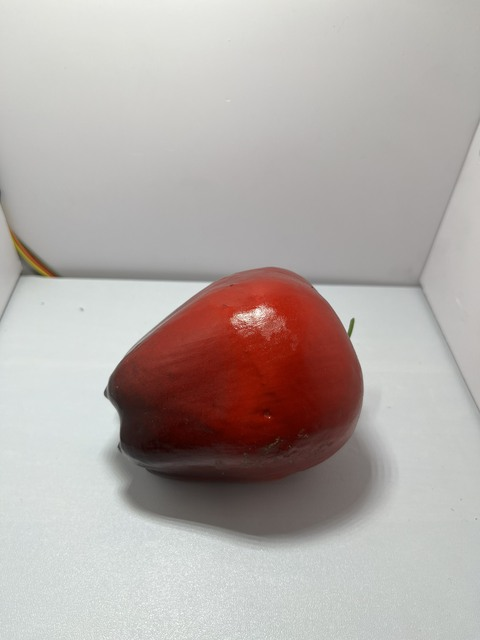Tao: (104, 260, 370, 492)
